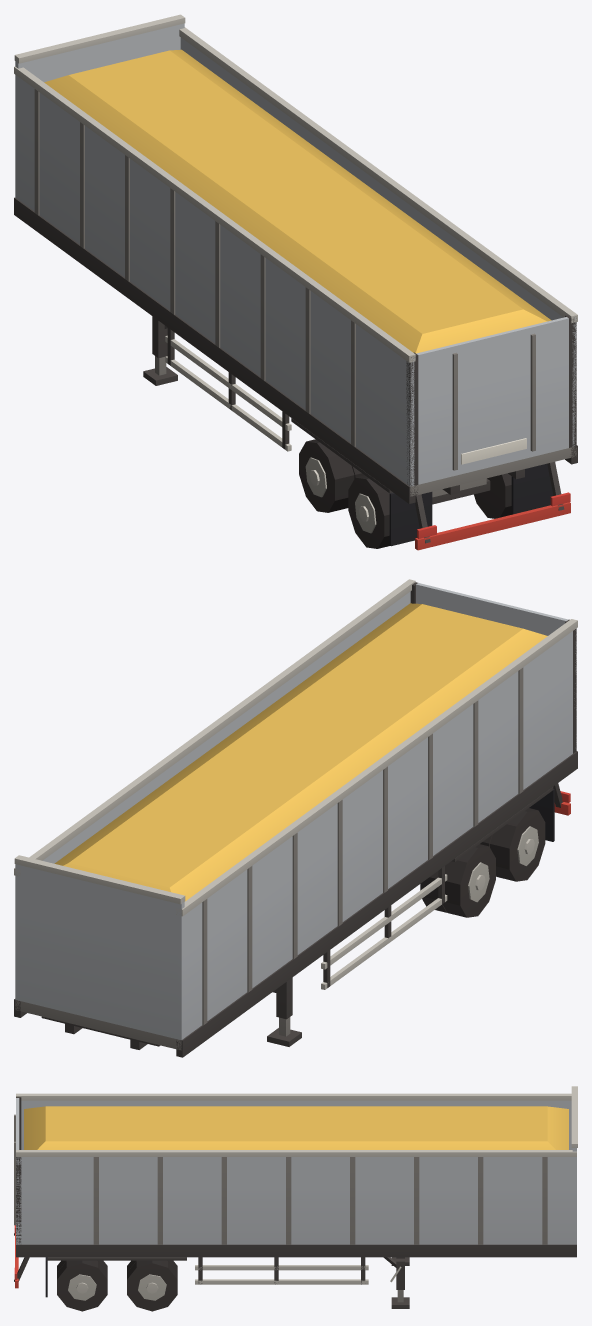
The model's file is semitrailer_small.glb.
The picture shows the model from 3 angles, top to bottom: view 1: azimuth 30°, elevation 25°; view 2: azimuth 150°, elevation 25°; view 3: azimuth 270°, elevation 25°; orthographic projection. The views are drawn at different scales.
Parts seen in each view (by area): view 1: semitrailer_small, grain_fill, tailgate, spin_rear_1_L, spin_rear_2_L, spin_rear_2_R, landing_legs; view 2: semitrailer_small, grain_fill, spin_rear_1_L, spin_rear_2_L, tailgate, landing_legs; view 3: semitrailer_small, grain_fill, spin_rear_2_R, spin_rear_1_R, landing_legs, tailgate.
Part boxes in pixels (x1,y1,x2,y2): semitrailer_small: [14, 14, 577, 550]; grain_fill: [44, 49, 551, 353]; tailgate: [416, 317, 568, 484]; spin_rear_1_L: [299, 439, 364, 512]; spin_rear_2_L: [348, 475, 389, 548]; spin_rear_2_R: [474, 473, 511, 518]; landing_legs: [143, 316, 177, 385]; semitrailer_small: [14, 579, 577, 1057]; grain_fill: [54, 603, 547, 901]; spin_rear_1_L: [420, 844, 495, 917]; spin_rear_2_L: [480, 808, 545, 881]; tailgate: [416, 583, 568, 635]; landing_legs: [267, 977, 301, 1046]; semitrailer_small: [14, 1086, 577, 1297]; grain_fill: [24, 1106, 568, 1149]; spin_rear_2_R: [57, 1260, 107, 1311]; spin_rear_1_R: [127, 1260, 177, 1311]; landing_legs: [383, 1257, 409, 1308]; tailgate: [14, 1098, 19, 1225].
Bounding box in the file's own units: 2.59 × 3.48 × 10.56.
2 materials, 2 textured.
